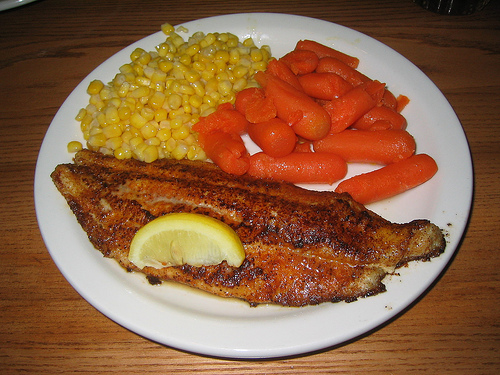corn: (65, 22, 277, 161)
